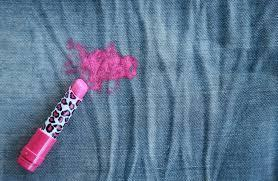kimchi: (61, 47, 137, 91), (64, 38, 96, 62)
